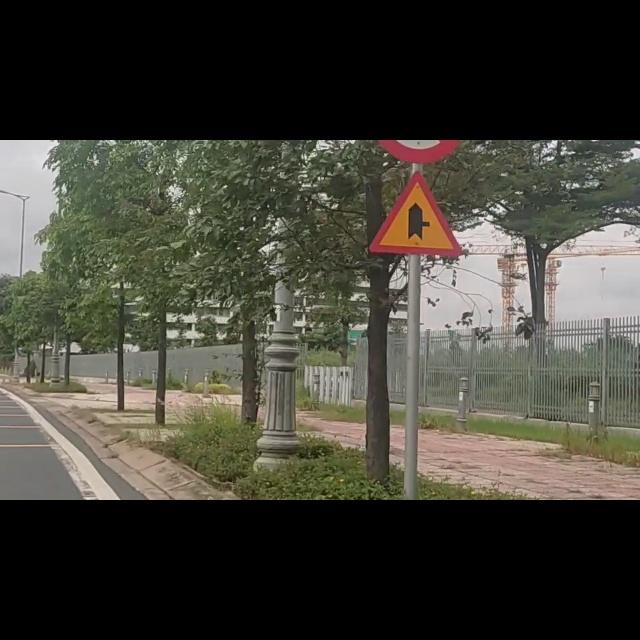bien_cam: (363, 47, 466, 210)
